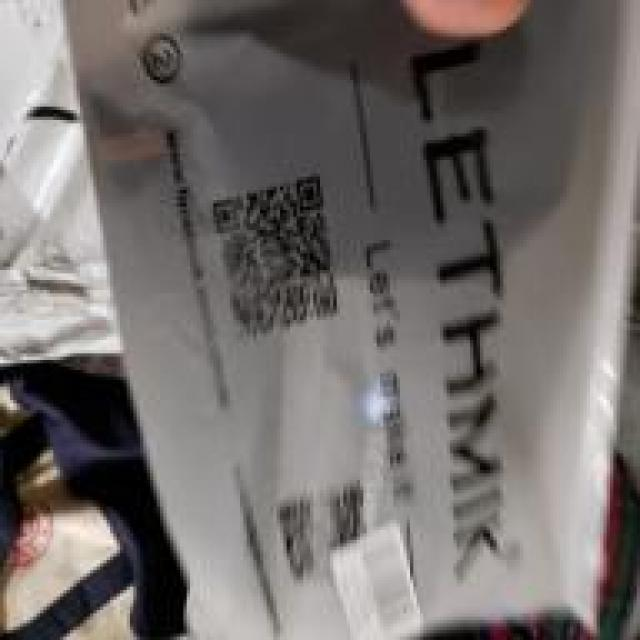qr_code: (212, 175, 339, 341)
